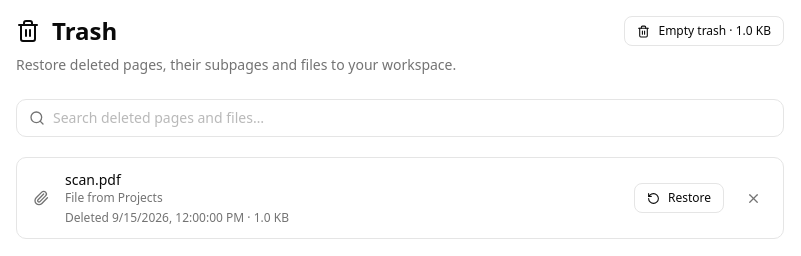
Scenario: restores a file into its page without leaving the trash
Expected: the text "scan.pdf" is shown, [65,170,121,189]
Expected: the text "File from Projects" is shown, [65,189,163,206]
Click the button "Restore" at (679, 198), box [634,183,724,213]
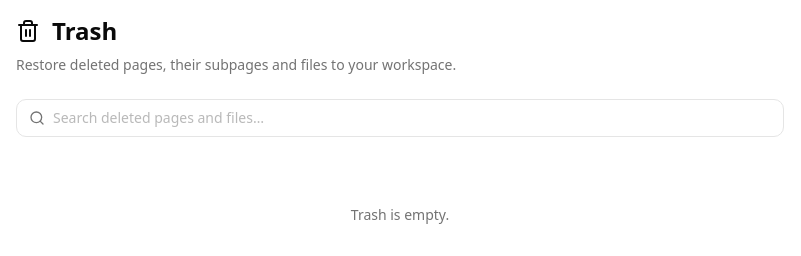
Expected: the text "scan.pdf" is gone
